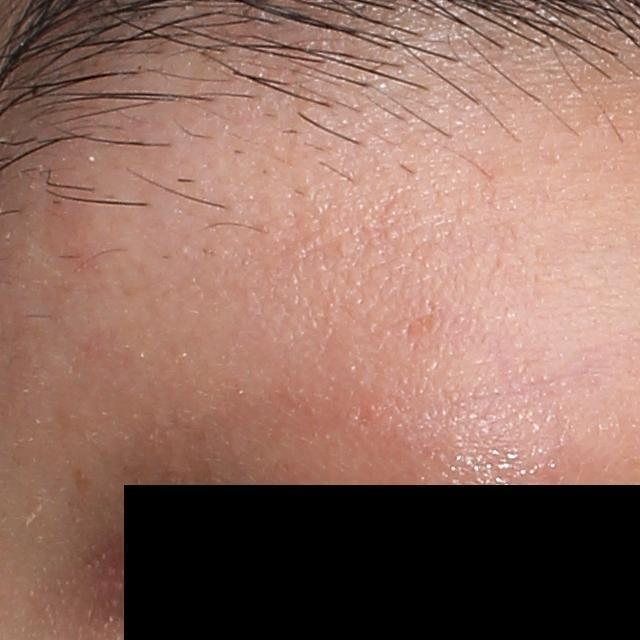melasma: (73, 469, 97, 501)
